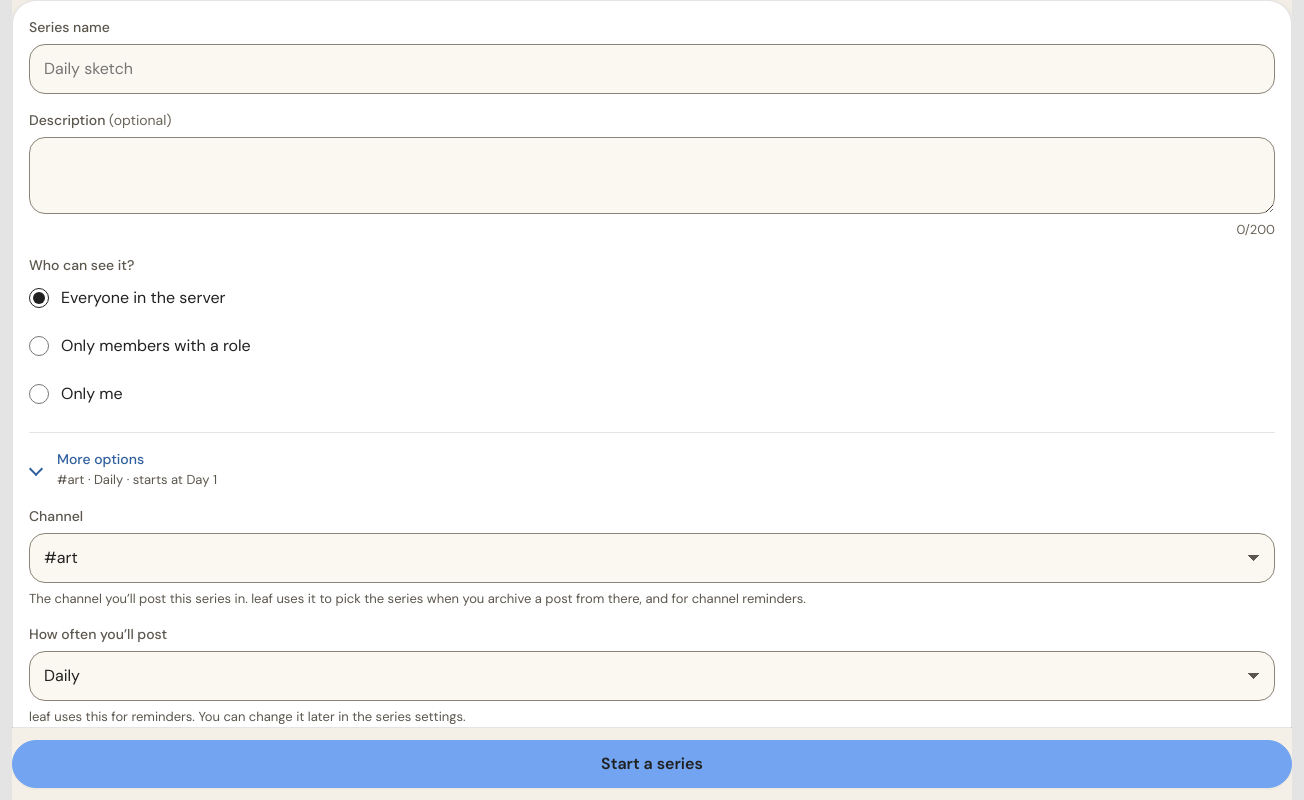
Test case: CreateWizard › holds back an empty name, says why on the field and moves focus there
Click the button "Start a series" at (652, 764), box [12, 740, 1292, 788]
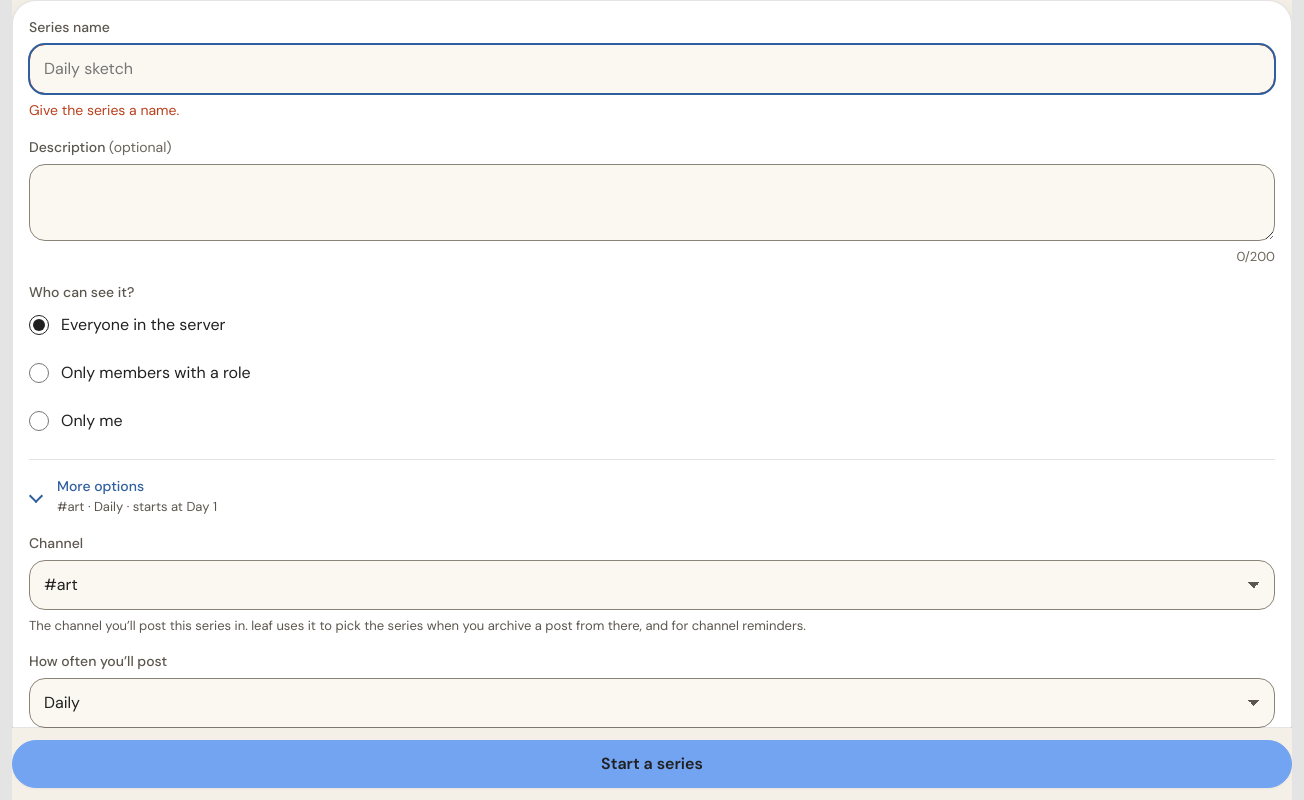
Check: the field labelled "Series name" is marked as invalid
Type "Ok" into the field labelled "Series name" at (652, 69), box [29, 44, 1275, 94]
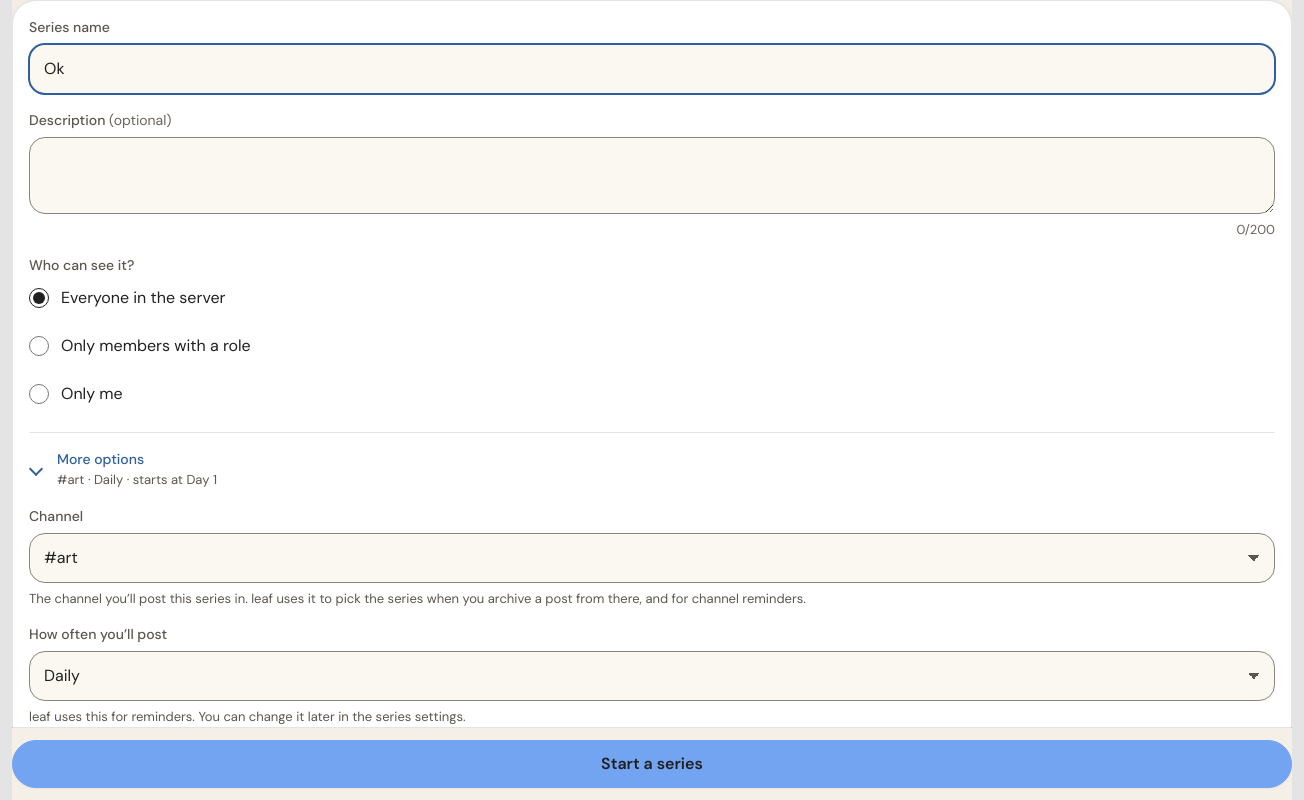
Check: the text "Give the series a name." is gone
